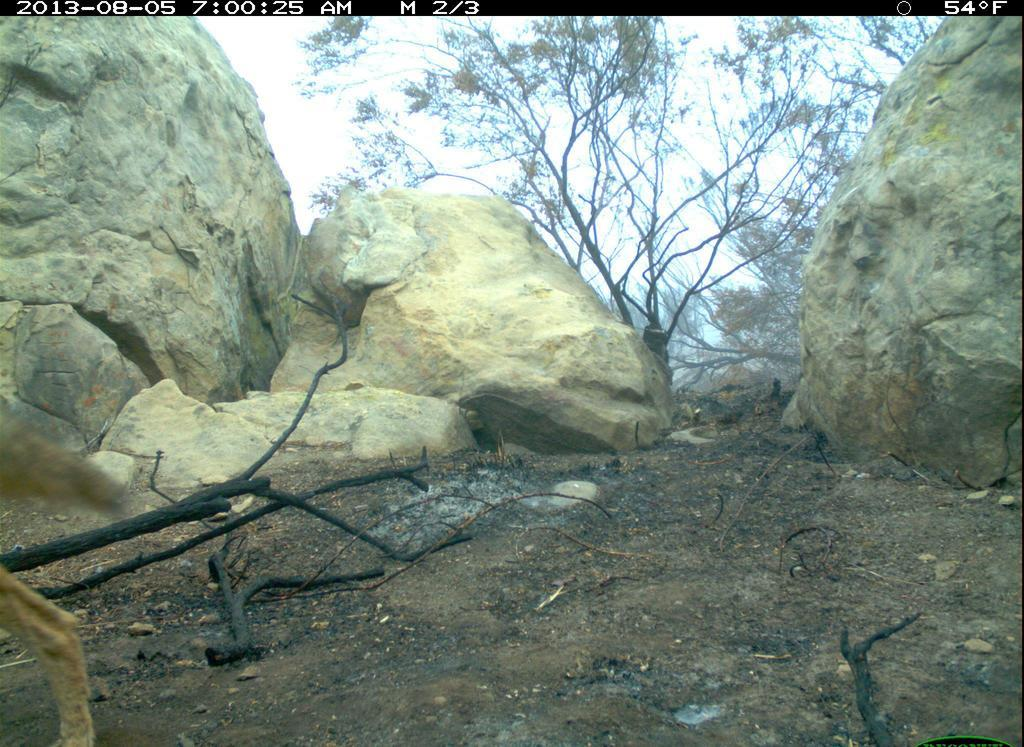coyote: (4, 377, 150, 747)
